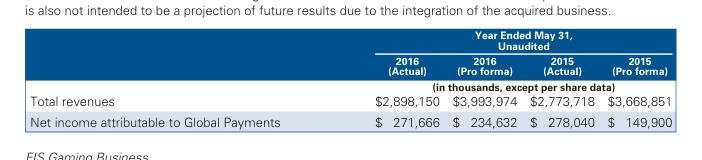table: (29, 28, 671, 129)
table column: (29, 28, 327, 129), (327, 28, 445, 129), (522, 28, 600, 129), (445, 28, 522, 129), (600, 28, 671, 129)
table column header: (29, 28, 671, 92)
table row: (29, 52, 671, 78), (29, 28, 671, 52), (29, 92, 671, 111), (29, 111, 671, 129), (29, 78, 671, 92)
table spanning cell: (327, 28, 671, 52), (327, 78, 671, 92)
